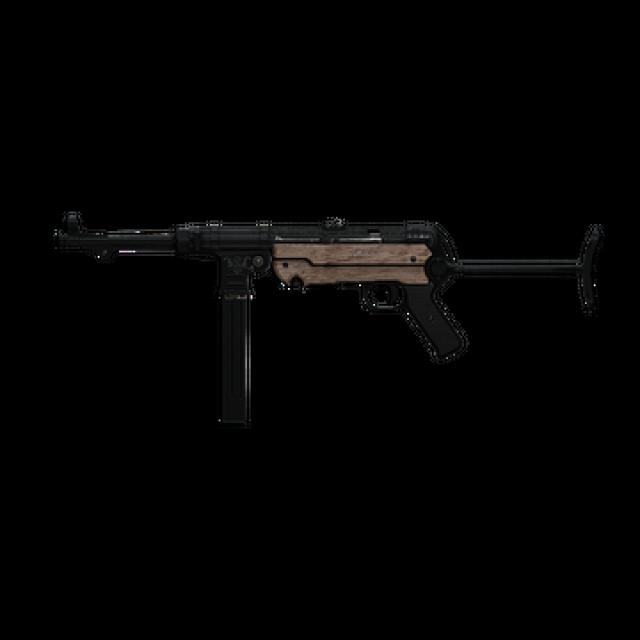SMG: (55, 210, 604, 421)
